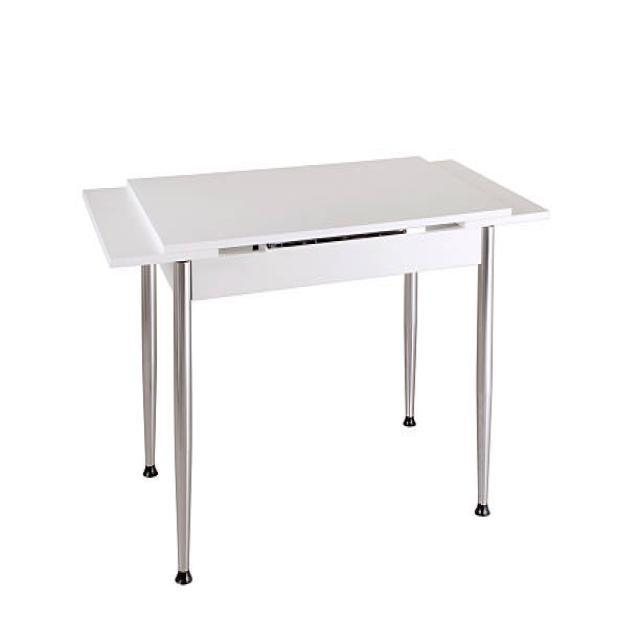table: (82, 153, 550, 584)
